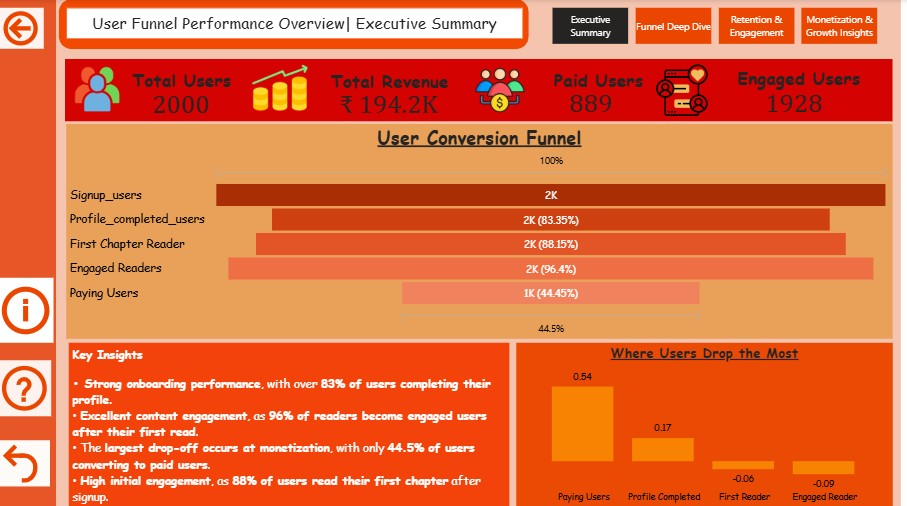

Layout of this report page (visuals, bound fields, positions):
{"tool":"powerbi","page":{"name":"Executive Summary","canvas":[1280,720],"ordinal":0},"visuals":[{"type":"shape","box":[0,0,1268.9,719.3],"z":0},{"type":"shape","box":[10.5,0,88.4,719.8],"z":1000},{"type":"funnel","title":"User Conversion Funnel","fields":{"Y":["reading_app_funnel_dataset.Signup_users","reading_app_funnel_dataset.Profile_completed_users","reading_app_funnel_dataset.First Chapter Reader","reading_app_funnel_dataset.Engaged Readers","reading_app_funnel_dataset.Paying Users"]},"box":[112.7,172.5,1145,297.7],"z":2000},{"type":"columnChart","title":"Where Users Drop the Most","fields":{"Category":["Funnel_Stage.Funnel Stage"],"Y":["Funnel_Stage.Funnel Drop Off %"]},"box":[736,475.8,521.7,233.7],"z":3000},{"type":"textbox","box":[116.9,475.8,610.8,233.7],"z":4000},{"type":"shape","box":[103,0,651.1,69.6],"z":5000},{"type":"textbox","box":[112.7,12.5,633,43.1],"z":6000},{"type":"shape","box":[111.6,82.6,1146.4,86.3],"z":7000},{"type":"card","fields":{"Values":["reading_app_funnel_dataset.Total_Users"]},"box":[171.7,122.2,200.3,43.1],"z":8000},{"type":"card","fields":{"Values":["reading_app_funnel_dataset.Total Revune"]},"box":[447.2,126.3,225.4,36.2],"z":9000},{"type":"card","fields":{"Values":["reading_app_funnel_dataset.Paying Users"]},"box":[728.2,122.2,221.2,40.3],"z":10000},{"type":"card","fields":{"Values":["reading_app_funnel_dataset.Engaged Readers"]},"box":[1013.4,120.8,215.7,41.7],"z":11000},{"type":"textbox","box":[156.1,89.6,233.7,52.9],"z":12000},{"type":"textbox","box":[739.1,89.6,221.2,51.5],"z":13000},{"type":"textbox","box":[451.1,91,221.2,50.1],"z":14000},{"type":"textbox","box":[1007.6,88.2,239.3,52.9],"z":15000},{"type":"image","box":[665.3,86.8,97.4,79.3],"z":16000},{"type":"image","box":[364.8,79.9,86.3,86.3],"z":17000},{"type":"image","box":[119.9,86.8,72.3,76.5],"z":18000},{"type":"image","box":[922.7,85.4,84.9,83.5],"z":19000},{"type":"actionButton","box":[33.4,12.5,48.7,40.3],"z":20000},{"type":"actionButton","box":[33.4,583,41.7,40.3],"z":21000},{"type":"actionButton","box":[33.4,638.6,41.7,54.3],"z":22000},{"type":"pageNavigator","box":[786.1,12.5,453.6,50.1],"z":23000}]}

Visuals, with their boxes in screenshot pixels (x1, y1, x2, y2), scaled from the page's 1280x720 canvas onto the 907x506 screenshot:
shape: box=[0, 0, 899, 505]
shape: box=[7, 0, 70, 505]
"User Conversion Funnel" funnel: box=[80, 121, 891, 330]
"Where Users Drop the Most" columnChart: box=[522, 334, 891, 499]
textbox: box=[83, 334, 516, 499]
shape: box=[73, 0, 534, 49]
textbox: box=[80, 9, 528, 39]
shape: box=[79, 58, 891, 119]
card - reading_app_funnel_dataset.Total_Users: box=[122, 86, 264, 116]
card - reading_app_funnel_dataset.Total Revune: box=[317, 89, 477, 114]
card - reading_app_funnel_dataset.Paying Users: box=[516, 86, 673, 114]
card - reading_app_funnel_dataset.Engaged Readers: box=[718, 85, 871, 114]
textbox: box=[111, 63, 276, 100]
textbox: box=[524, 63, 680, 99]
textbox: box=[320, 64, 476, 99]
textbox: box=[714, 62, 884, 99]
image: box=[471, 61, 540, 117]
image: box=[258, 56, 320, 117]
image: box=[85, 61, 136, 115]
image: box=[654, 60, 714, 119]
actionButton: box=[24, 9, 58, 37]
actionButton: box=[24, 410, 53, 438]
actionButton: box=[24, 449, 53, 487]
pageNavigator: box=[557, 9, 878, 44]
